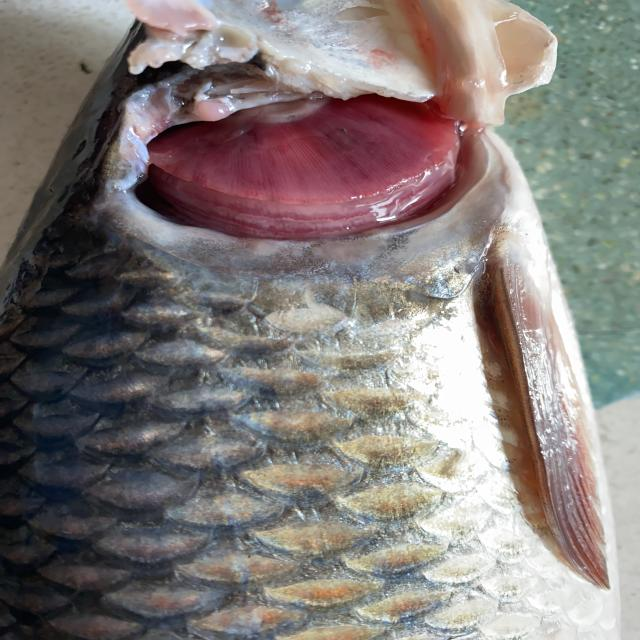Fresh: (105, 70, 502, 232)
